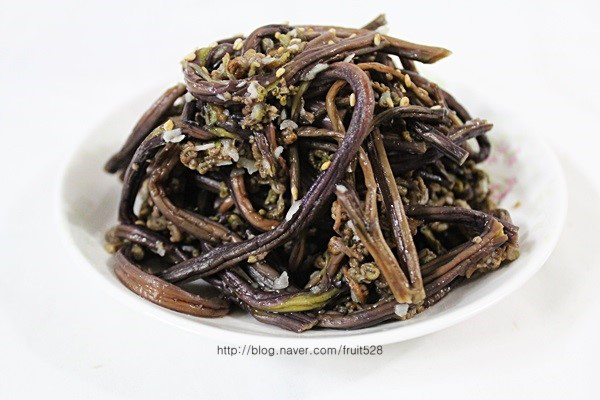gosalinamul: (96, 14, 529, 335)
